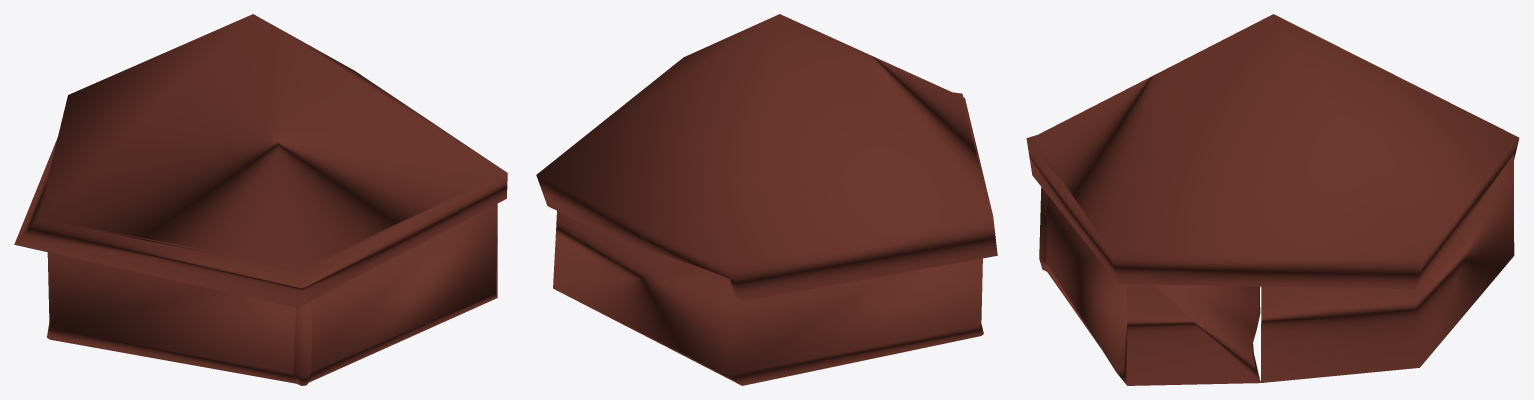
The model's file is Tent-closed.fbx.
3 views of the same model, side by side, from view 1: azimuth 30°, elevation 25°; view 2: azimuth 150°, elevation 25°; view 3: azimuth 270°, elevation 25° (orthographic). The views are drawn at different scales.
Parts seen in each view (by area): view 1: TentWalls.001; view 2: TentWalls.001; view 3: TentWalls.001.
Part boxes in pixels (x1,y1,x2,y2): TentWalls.001: (14, 14, 507, 385); TentWalls.001: (536, 14, 997, 385); TentWalls.001: (1026, 14, 1519, 385).
Bounding box in the file's own units: 373 × 377 × 240.
